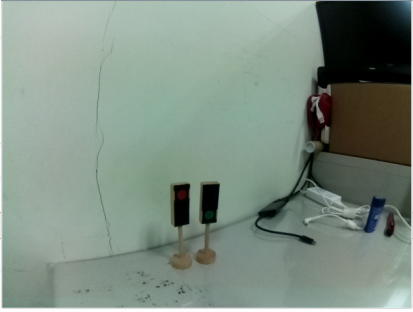Green: (199, 180, 220, 229)
Red: (169, 182, 192, 232)
